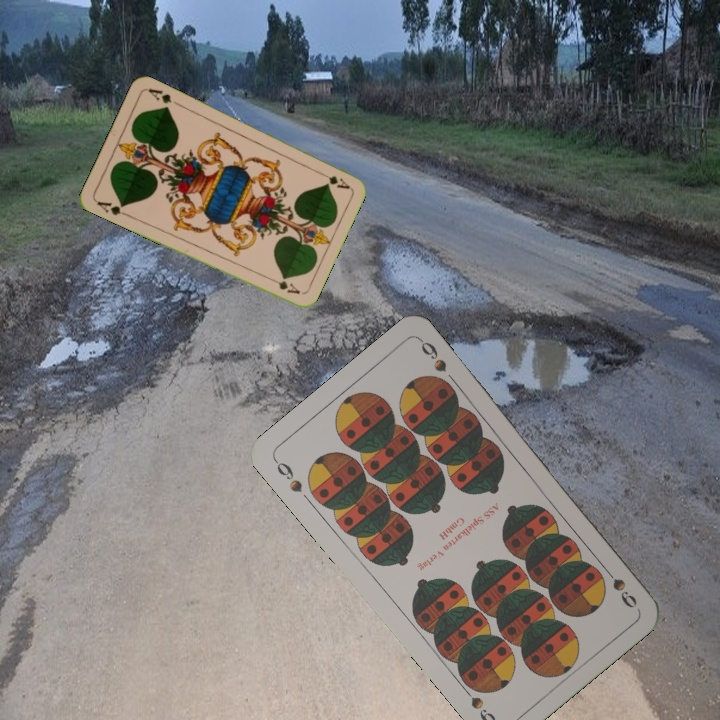GA: (314, 167, 352, 192), (92, 197, 131, 219)
S9: (598, 561, 640, 611), (270, 455, 305, 495)
